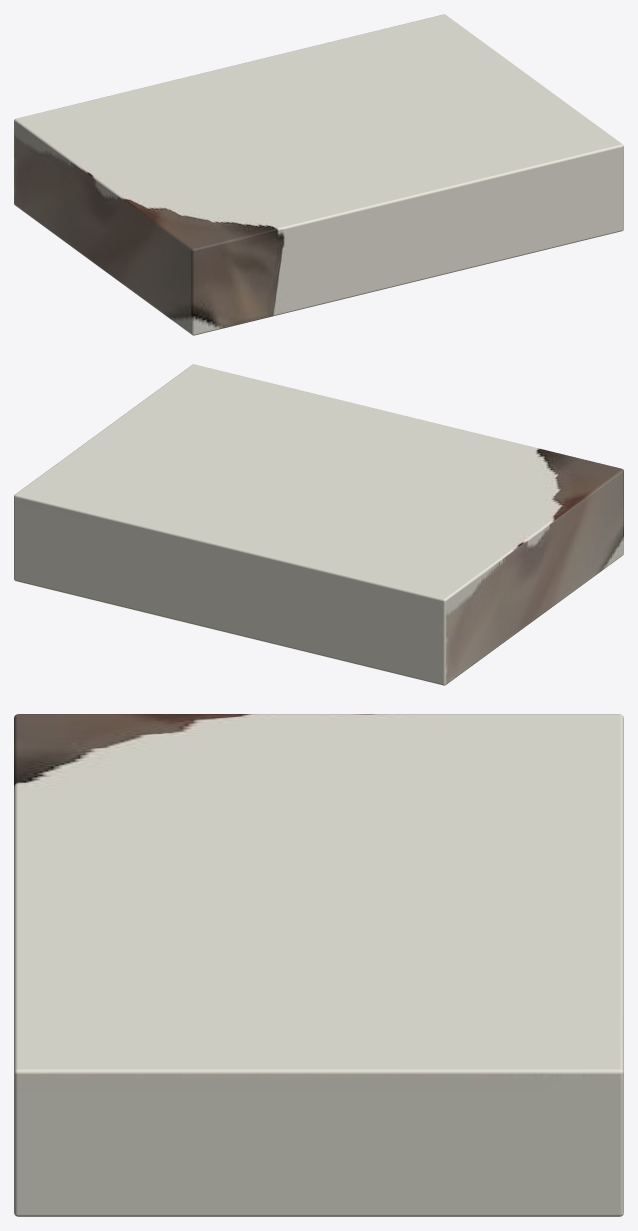
3 renders of one model, top to bottom at view 1: azimuth 30°, elevation 25°; view 2: azimuth 150°, elevation 25°; view 3: azimuth 270°, elevation 25°, orthographic. The views are drawn at different scales.
Parts seen in each view (by area): view 1: rigid printed frozen-food carton; view 2: rigid printed frozen-food carton; view 3: rigid printed frozen-food carton.
Part boxes in pixels (bbox=[...]): rigid printed frozen-food carton: bbox=[14, 14, 623, 335]; rigid printed frozen-food carton: bbox=[14, 364, 623, 685]; rigid printed frozen-food carton: bbox=[14, 714, 623, 1216].
Bounding box in the file's own units: 0.25 × 0.048 × 0.18.
Materials: 1 (1 with a texture image).
